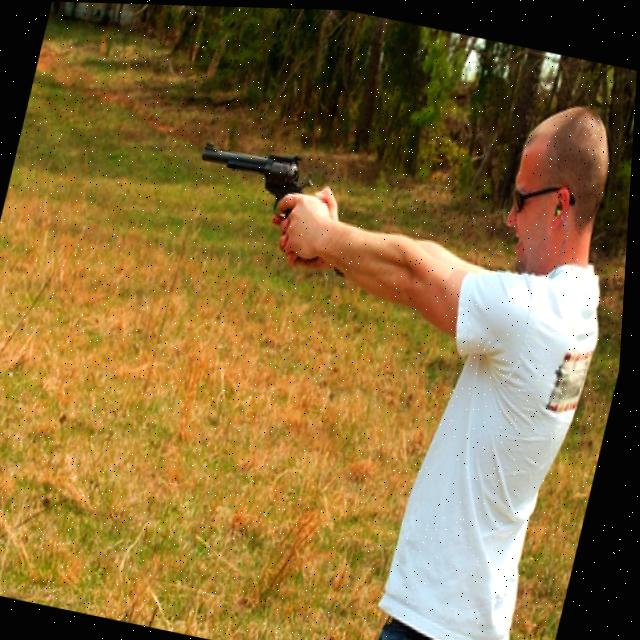pistol: (191, 134, 321, 224)
